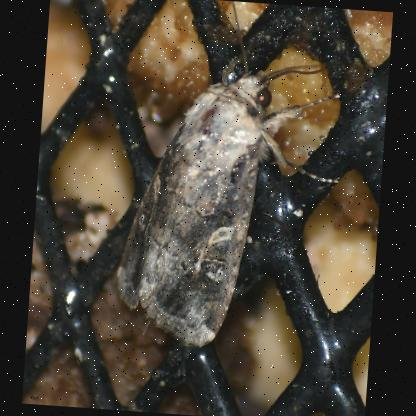Fall Armyworm Moth: (107, 0, 354, 360)
